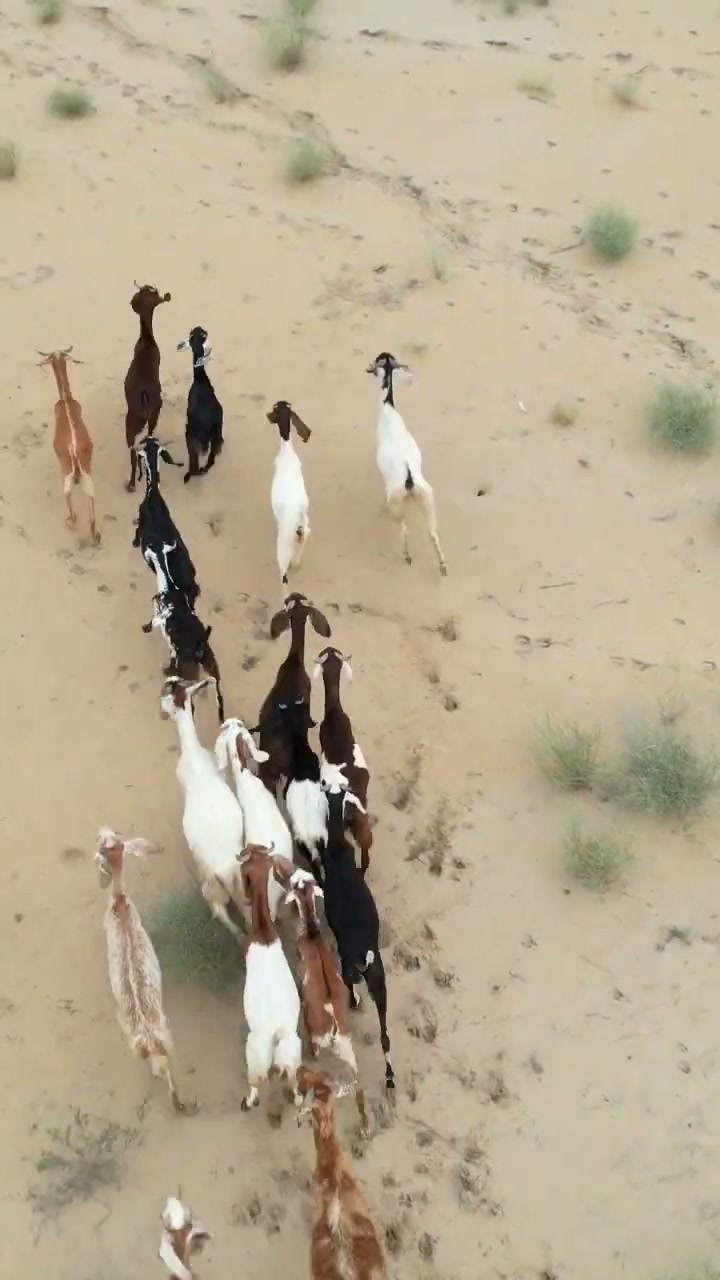animal_footprint: (370, 634, 512, 1274), (50, 559, 191, 777)
